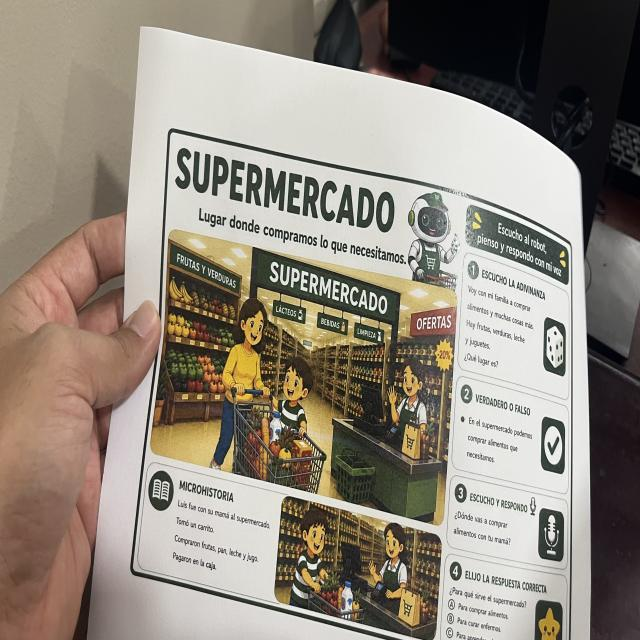supermercado: (127, 123, 575, 640)
